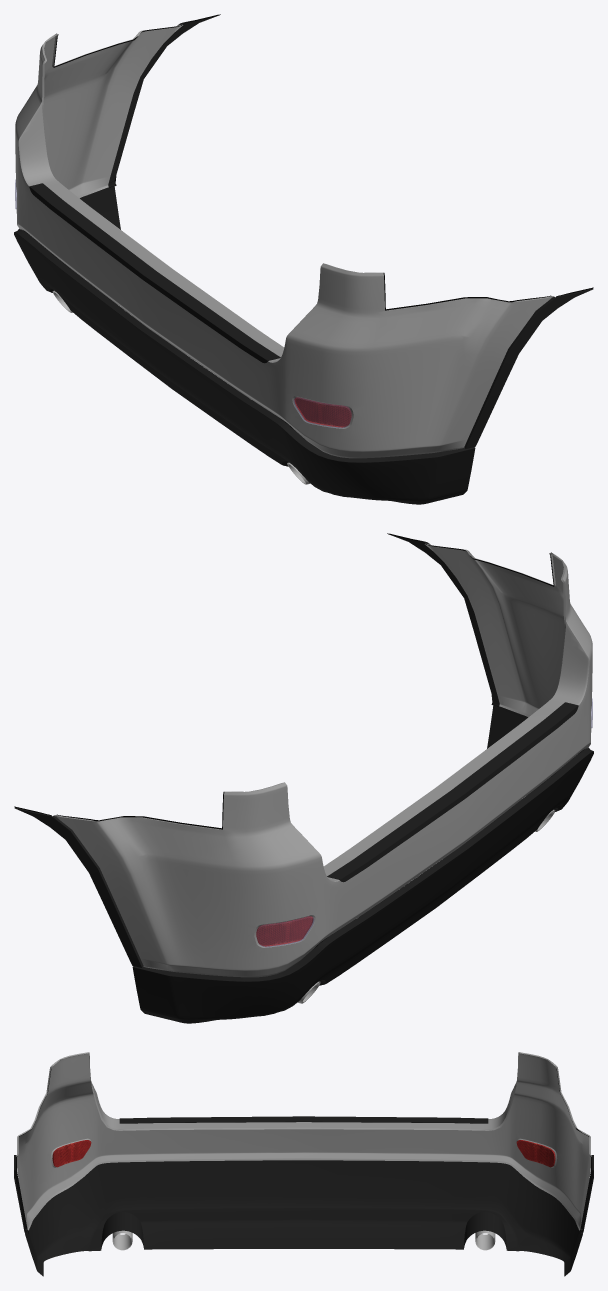
The picture shows the model from 3 angles, top to bottom: view 1: azimuth 30°, elevation 25°; view 2: azimuth 150°, elevation 25°; view 3: azimuth 270°, elevation 25°; orthographic projection. The views are drawn at different scales.
Parts seen in each view (by area): view 1: J733_561G_C_4_DaS_J733_561G_C, J733_561G_C_J733_561G_C_1_D, J733_561G_C_4_DaS_J733_561G_C_E, J733_561G_C_J733_561G_C_6_DTaSI, J733_561G_C_J733_561G_C_3_N, J733_561G_C_J733_561G_C_8_D; view 2: J733_561G_C_4_DaS_J733_561G_C, J733_561G_C_J733_561G_C_1_D, J733_561G_C_4_DaS_J733_561G_C_E, J733_561G_C_J733_561G_C_7_DTaSI, J733_561G_C_J733_561G_C_2_N, J733_561G_C_J733_561G_C_8_D; view 3: J733_561G_C_J733_561G_C_1_D, J733_561G_C_4_DaS_J733_561G_C, J733_561G_C_4_DaS_J733_561G_C_E, J733_561G_C_J733_561G_C_5_DaS, J733_561G_C_J733_561G_C_2_N, J733_561G_C_J733_561G_C_3_N.
Part boxes in pixels (bbox=[...]): J733_561G_C_4_DaS_J733_561G_C: bbox=[15, 26, 553, 458]; J733_561G_C_J733_561G_C_1_D: bbox=[14, 14, 593, 504]; J733_561G_C_4_DaS_J733_561G_C_E: bbox=[18, 24, 553, 428]; J733_561G_C_J733_561G_C_6_DTaSI: bbox=[293, 397, 351, 428]; J733_561G_C_J733_561G_C_3_N: bbox=[294, 397, 351, 427]; J733_561G_C_J733_561G_C_8_D: bbox=[23, 14, 593, 429]; J733_561G_C_4_DaS_J733_561G_C: bbox=[54, 545, 592, 977]; J733_561G_C_J733_561G_C_1_D: bbox=[14, 533, 593, 1023]; J733_561G_C_4_DaS_J733_561G_C_E: bbox=[54, 543, 589, 947]; J733_561G_C_J733_561G_C_7_DTaSI: bbox=[256, 916, 314, 947]; J733_561G_C_J733_561G_C_2_N: bbox=[256, 916, 313, 946]; J733_561G_C_J733_561G_C_8_D: bbox=[14, 533, 584, 948]; J733_561G_C_J733_561G_C_1_D: bbox=[14, 1116, 593, 1276]; J733_561G_C_4_DaS_J733_561G_C: bbox=[17, 1053, 590, 1230]; J733_561G_C_4_DaS_J733_561G_C_E: bbox=[17, 1052, 590, 1167]; J733_561G_C_J733_561G_C_5_DaS: bbox=[112, 1230, 495, 1250]; J733_561G_C_J733_561G_C_2_N: bbox=[516, 1140, 555, 1167]; J733_561G_C_J733_561G_C_3_N: bbox=[52, 1140, 91, 1167].
Bounding box in the file's own units: 87.44 × 74.41 × 212.
